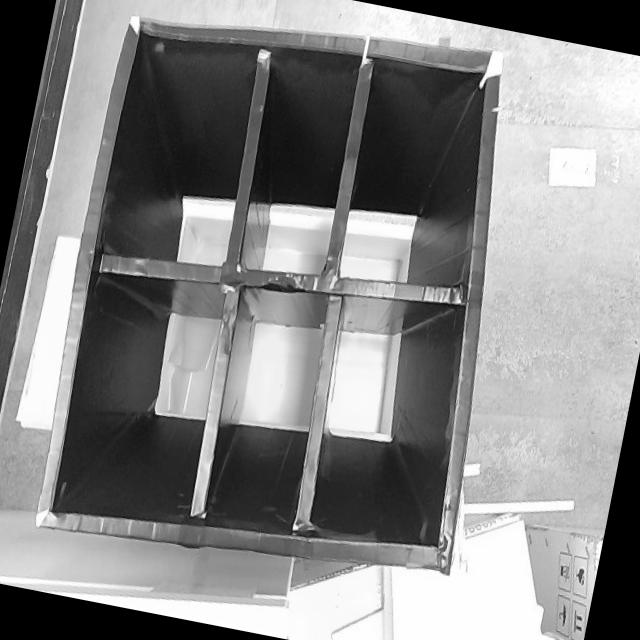box: (20, 0, 559, 615)
